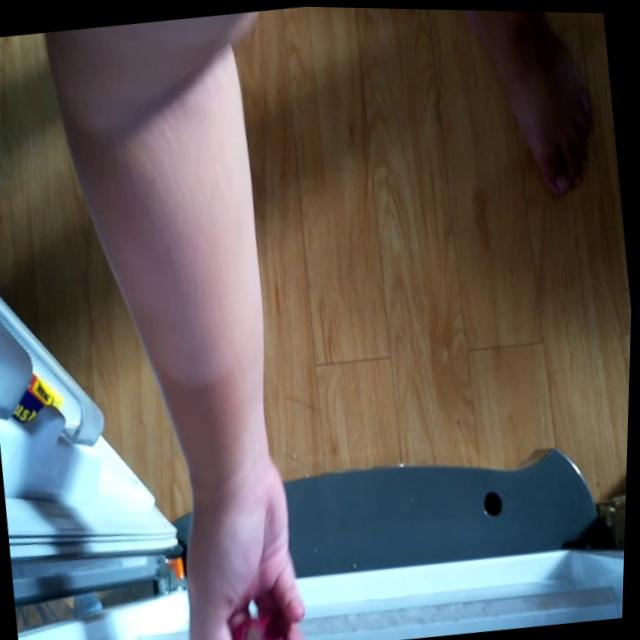onion: (226, 598, 297, 640)
